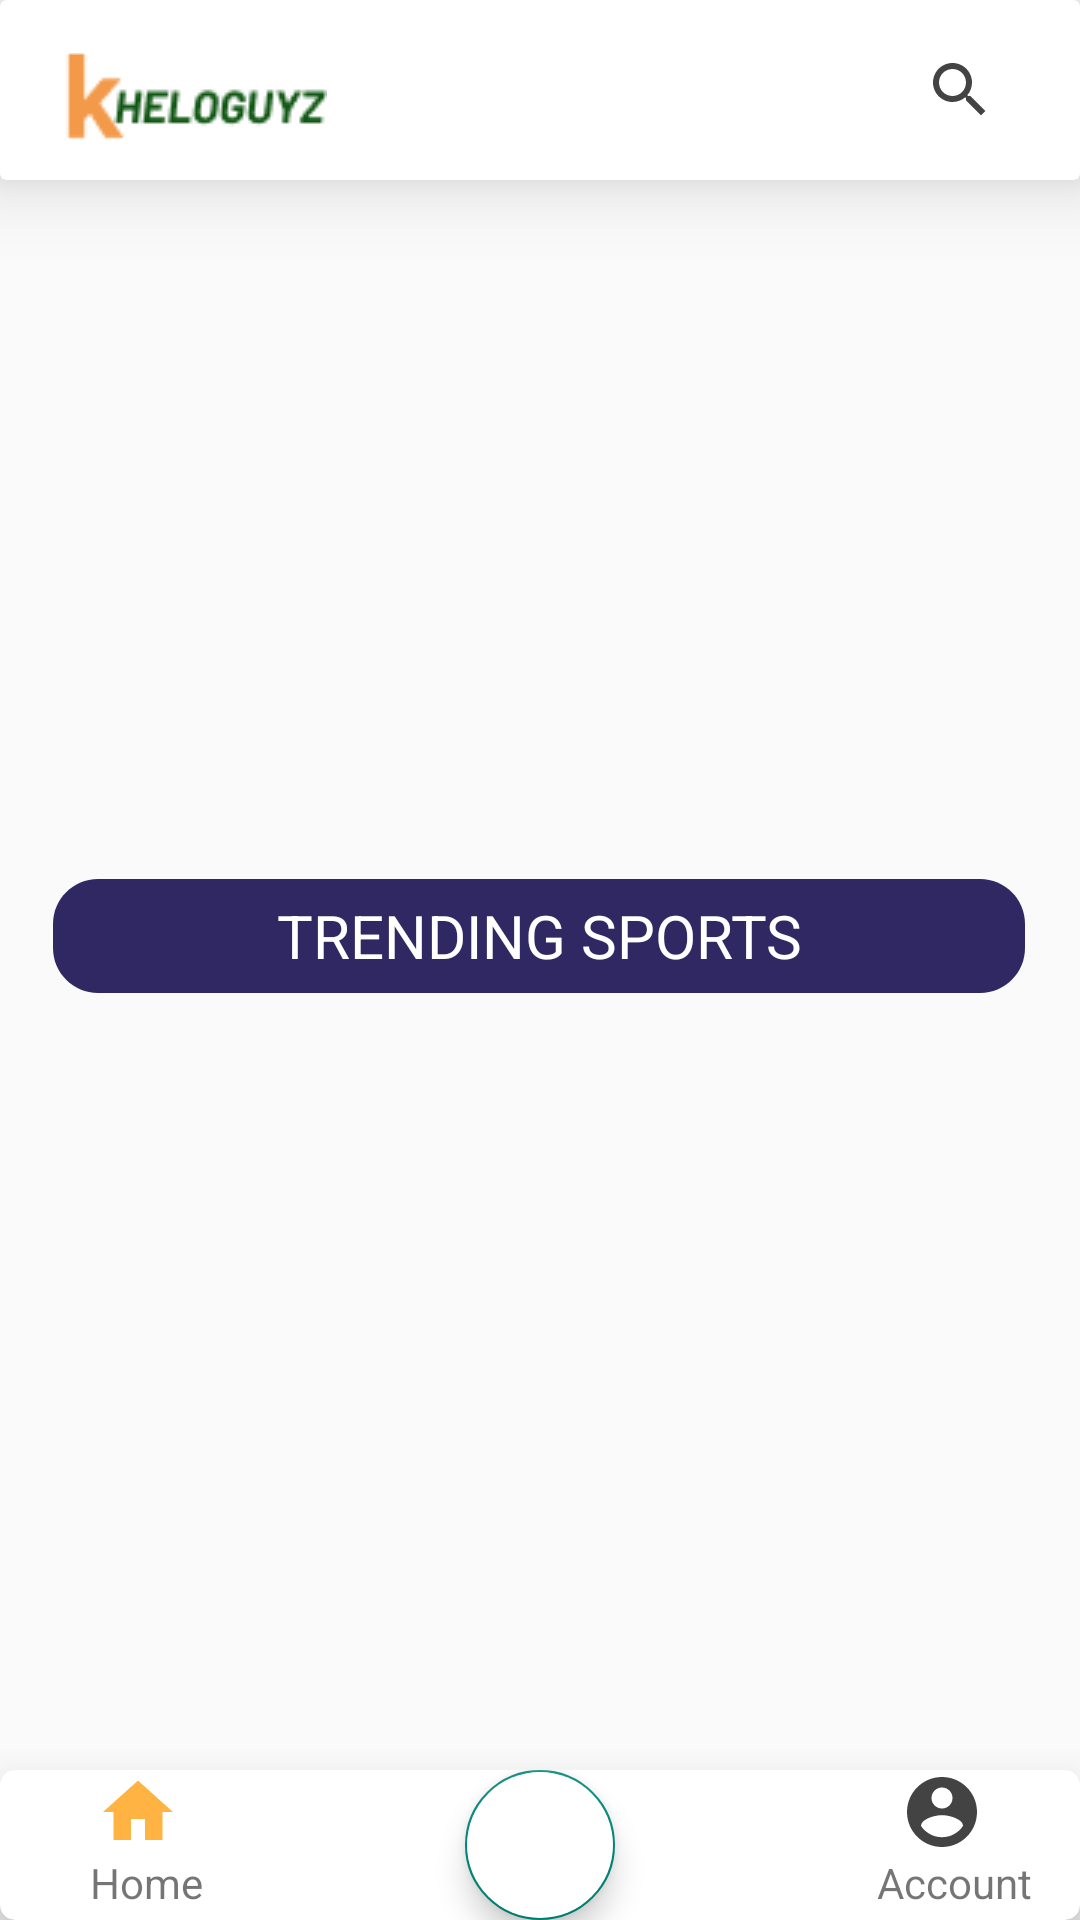

Named icons in this screenshot (1080 × 1920) and their centers, point (x, y):
Search: point (959, 89)
